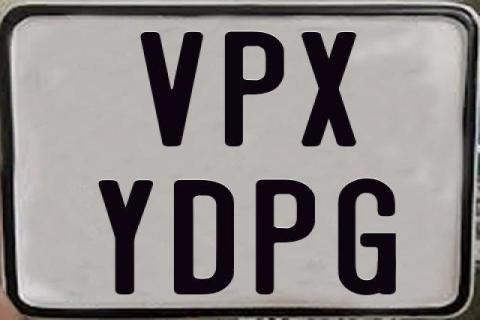D: (174, 180, 238, 297)
G: (338, 178, 398, 298)
P: (224, 29, 289, 147), (254, 177, 315, 293)
V: (140, 30, 207, 146)
X: (300, 31, 356, 147)
Y: (97, 178, 156, 296)
